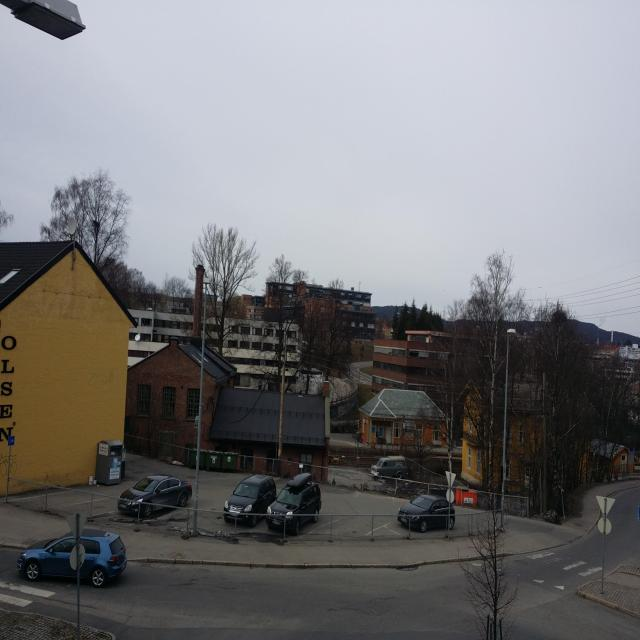Good: (168, 549, 186, 561)
